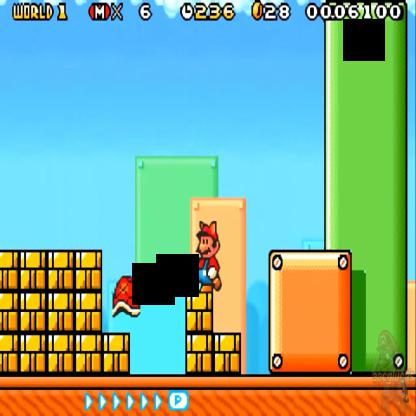Mario: (181, 224, 223, 290)
caparazon: (109, 273, 146, 319)
moneda: (250, 1, 265, 25)
